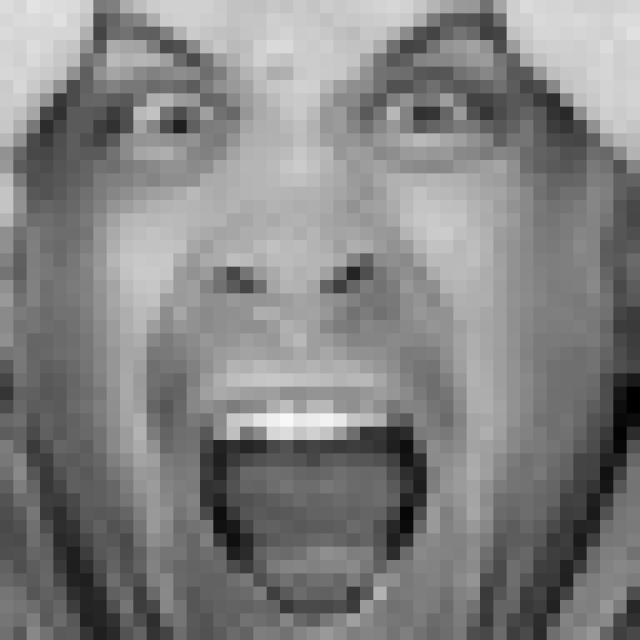angry: (86, 11, 526, 640)
